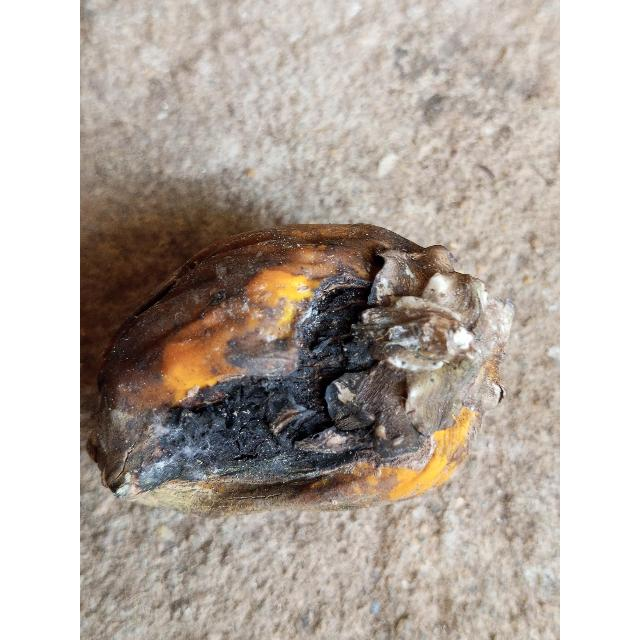damaged: (87, 225, 514, 515)
